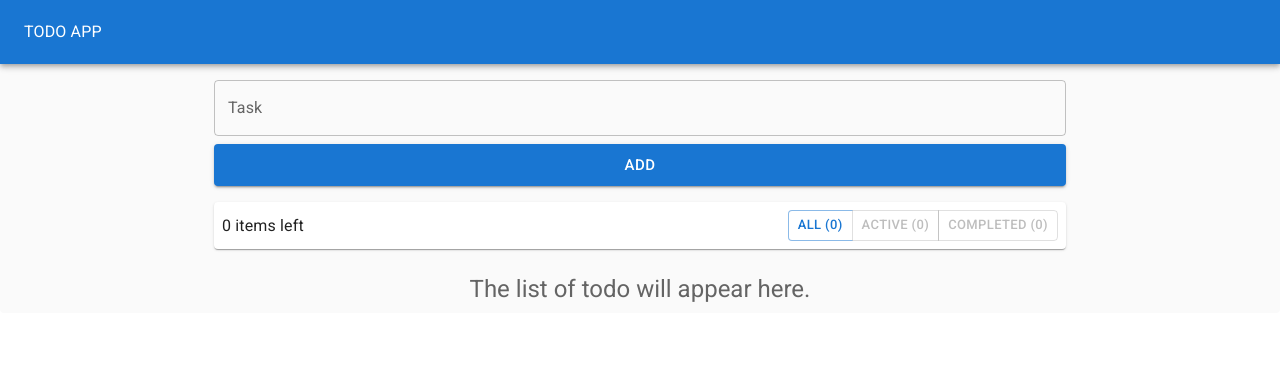
TODO test › should create a todo
Type "Make a sandwich" into the field labelled "Task". click: (640, 108)
box: [214,80,1066,136]
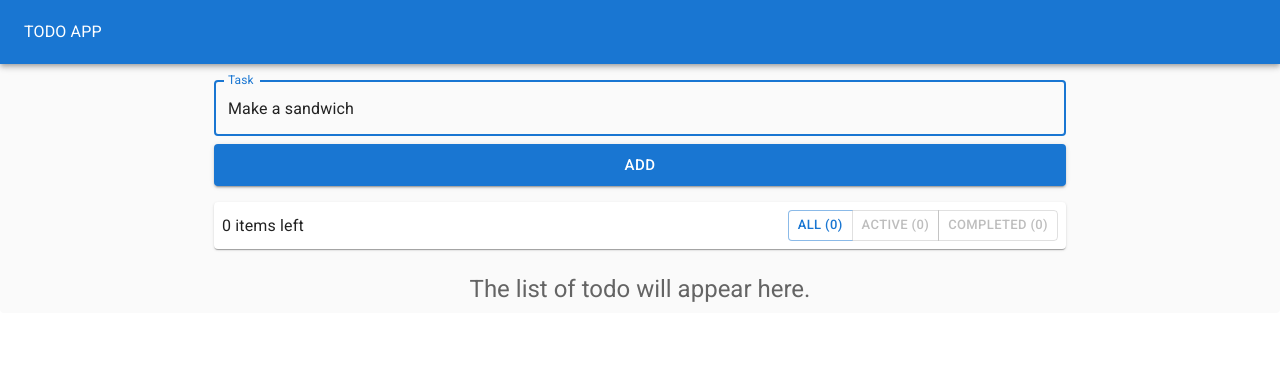
Click the button "Add". click: (640, 165)
box: [214,144,1066,186]
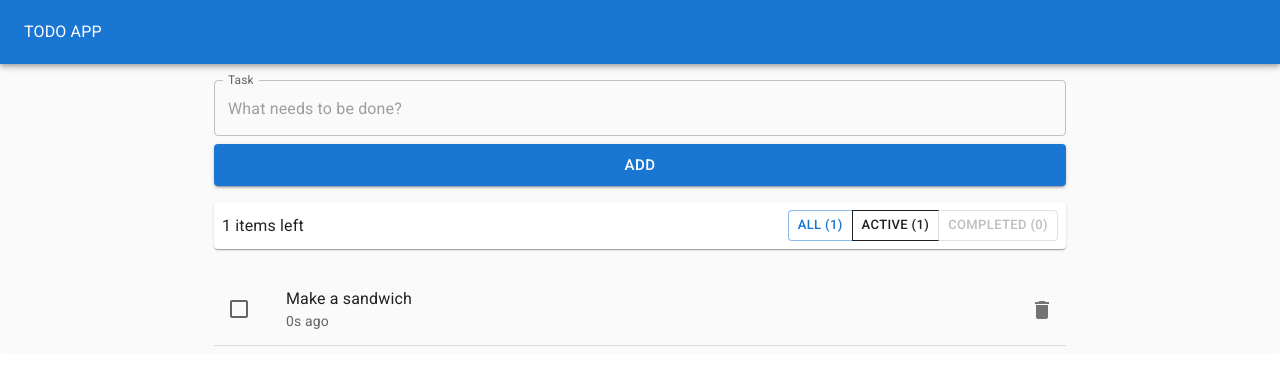
Expected: the number of lists is 1, [214,265,1066,354]
Result: the text "Make a sandwich" is shown at [286,289,412,308]
